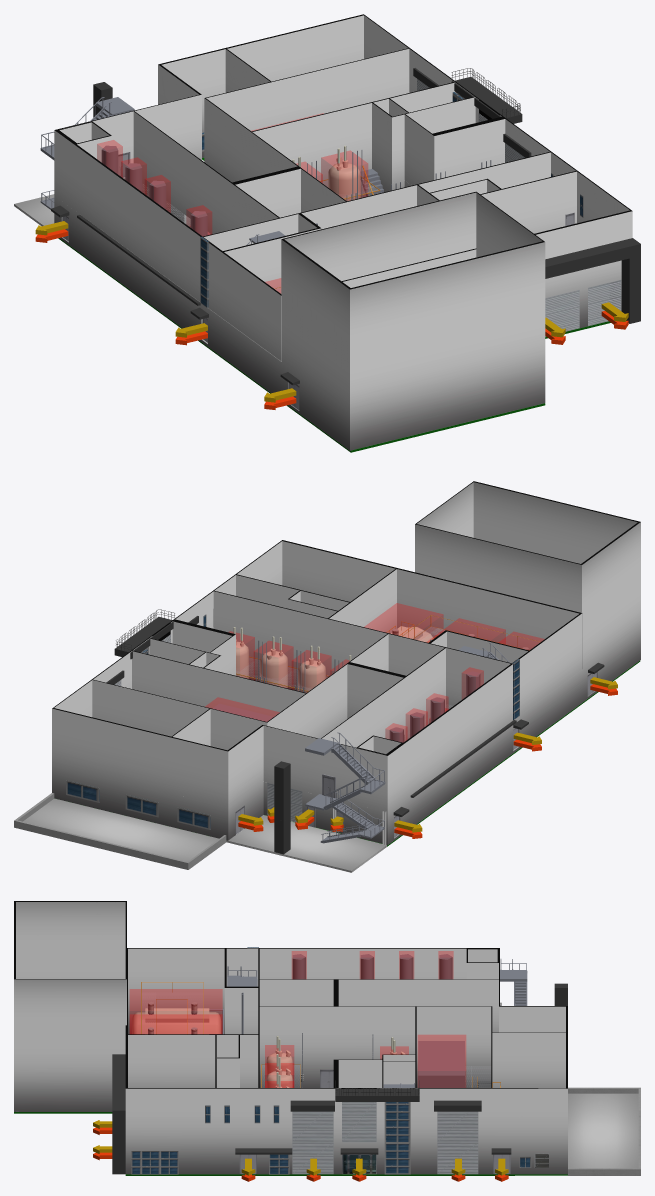
File: soulbrain_T6-3-1F.glb
The picture shows the model from 3 angles, top to bottom: view 1: azimuth 30°, elevation 25°; view 2: azimuth 150°, elevation 25°; view 3: azimuth 270°, elevation 25°; orthographic projection. The views are drawn at different scales.
Visible parts, largest first — view 1: Box008, T6-3-1F, Plane010, Box237, Box218, equipment-T6-3-1F-002, Line914, Box2513, equipment-T6-3-1F-015, equipment-T6-3-1F-016, equipment-T6-3-1F-017, equipment-T6-3-1F-014; view 2: Box008, Plane010, T6-3-1F, Box2513, Line595, equipment-T6-3-1F-007, Box186, equipment-T6-3-1F-004, equipment-T6-3-1F-005, Box218, Line914, equipment-T6-3-1F-008 (+4 smaller); view 3: Box008, T6-3-1F, Plane010, Box220, equipment-T6-3-1F-009, Box186, equipment-T6-3-1F-019, Box218, Cone018, Box2509, equipment-T6-3-1F-008, Line914 (+10 smaller).
Boxes of the visible parts, x1,y1,x2,y2 form: Box008: (54, 14, 632, 450); T6-3-1F: (40, 82, 640, 336); Plane010: (14, 157, 610, 452); Box237: (51, 205, 640, 385); Box218: (413, 68, 531, 157); equipment-T6-3-1F-002: (321, 150, 367, 200); Line914: (101, 145, 207, 236); Box2513: (292, 145, 360, 201); equipment-T6-3-1F-015: (145, 175, 170, 212); equipment-T6-3-1F-016: (121, 157, 146, 194); equipment-T6-3-1F-017: (97, 140, 122, 177); equipment-T6-3-1F-014: (186, 205, 211, 235); Box008: (52, 481, 640, 845); Plane010: (23, 661, 640, 872); T6-3-1F: (141, 609, 539, 854); Box2513: (233, 627, 351, 692); Line595: (14, 793, 226, 869); equipment-T6-3-1F-007: (365, 603, 443, 641); Box186: (66, 780, 210, 829); equipment-T6-3-1F-004: (254, 641, 293, 688); equipment-T6-3-1F-005: (292, 650, 331, 692); Box218: (106, 616, 198, 684); Line914: (389, 671, 480, 742); equipment-T6-3-1F-008: (427, 618, 505, 643); Box008: (14, 901, 567, 1174); T6-3-1F: (112, 947, 567, 1174); Plane010: (14, 1093, 638, 1175); Box220: (292, 1102, 478, 1142); equipment-T6-3-1F-009: (130, 989, 222, 1033); Box186: (131, 1142, 548, 1174); equipment-T6-3-1F-019: (418, 1035, 465, 1087); Box218: (290, 1089, 481, 1111); Cone018: (418, 1041, 464, 1087); Box2509: (132, 1008, 221, 1034); equipment-T6-3-1F-008: (130, 1014, 222, 1033); Line914: (292, 954, 452, 979).
Size of the model in its own units: 40.23 by 15.2 by 64.29.
Materials: 46 (37 with a texture image).
